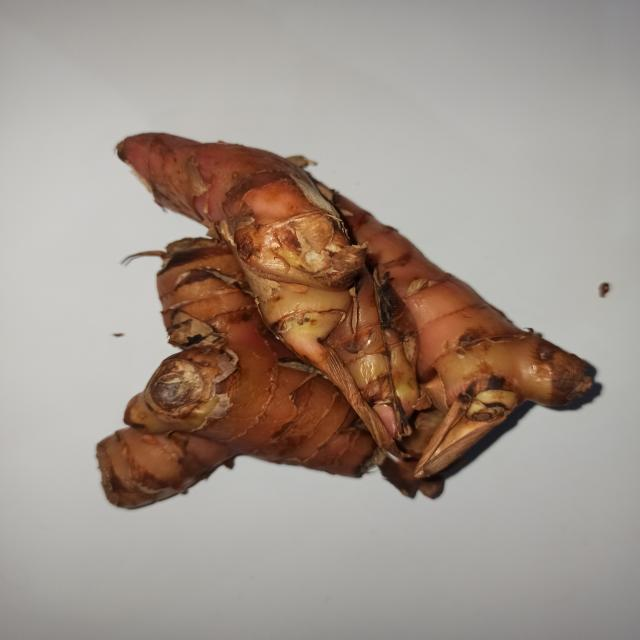ginger: (120, 130, 525, 492)
